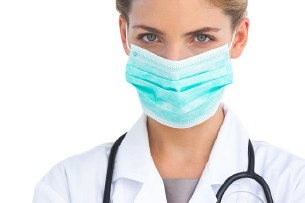Mask: (123, 13, 238, 129)
